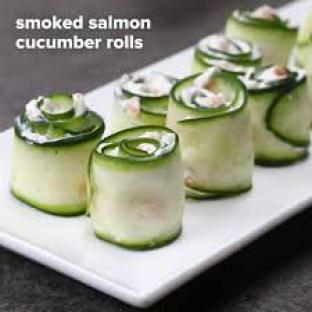Cucumber: (89, 127, 184, 249), (12, 95, 103, 214), (168, 71, 253, 198), (249, 68, 310, 165), (225, 10, 296, 65), (111, 74, 176, 133), (193, 34, 262, 74), (296, 12, 311, 105)
